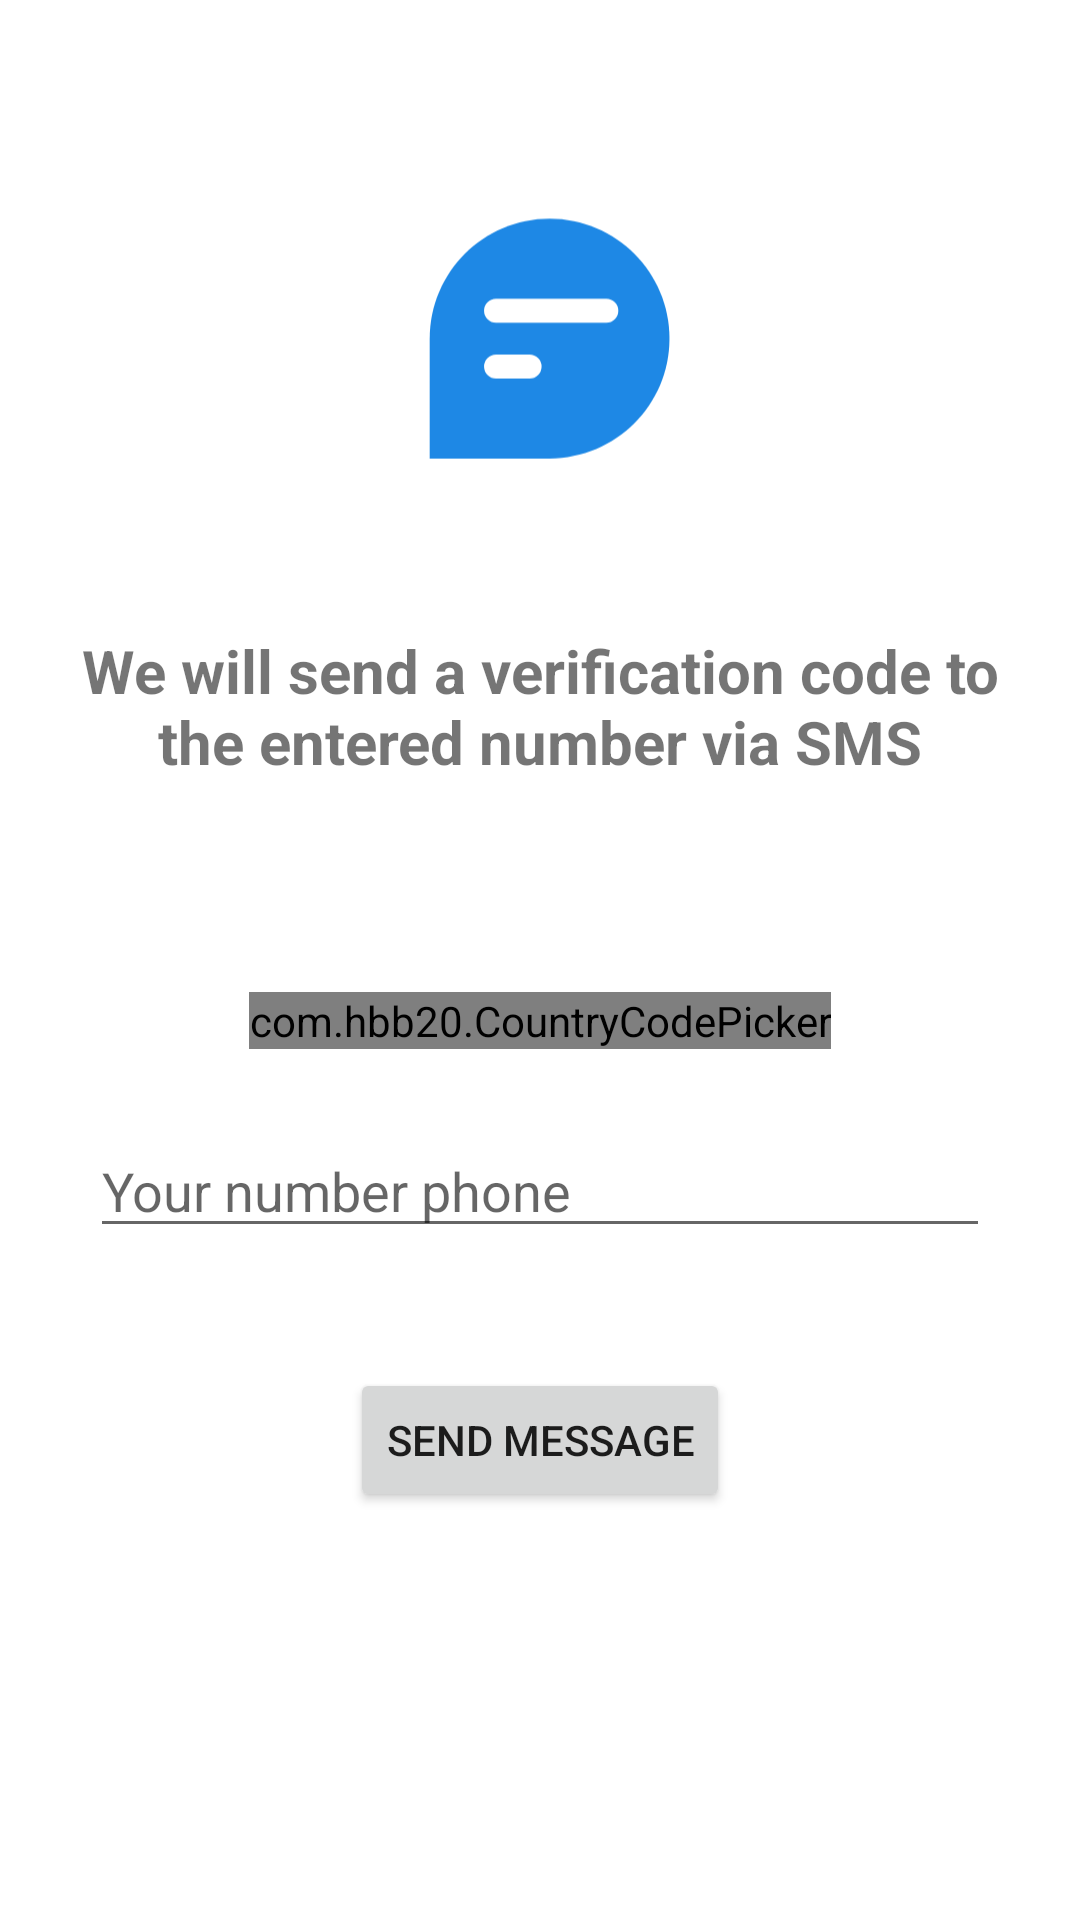

Icons on this 1080×1920 Android screen, each with the point to tap as point (x, y):
chat app: point (549, 338)
